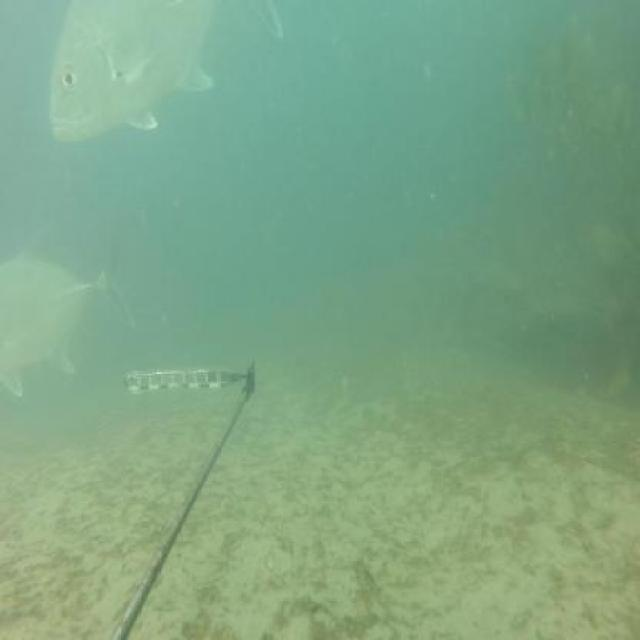Caranx: (47, 2, 287, 146), (0, 214, 137, 406)
